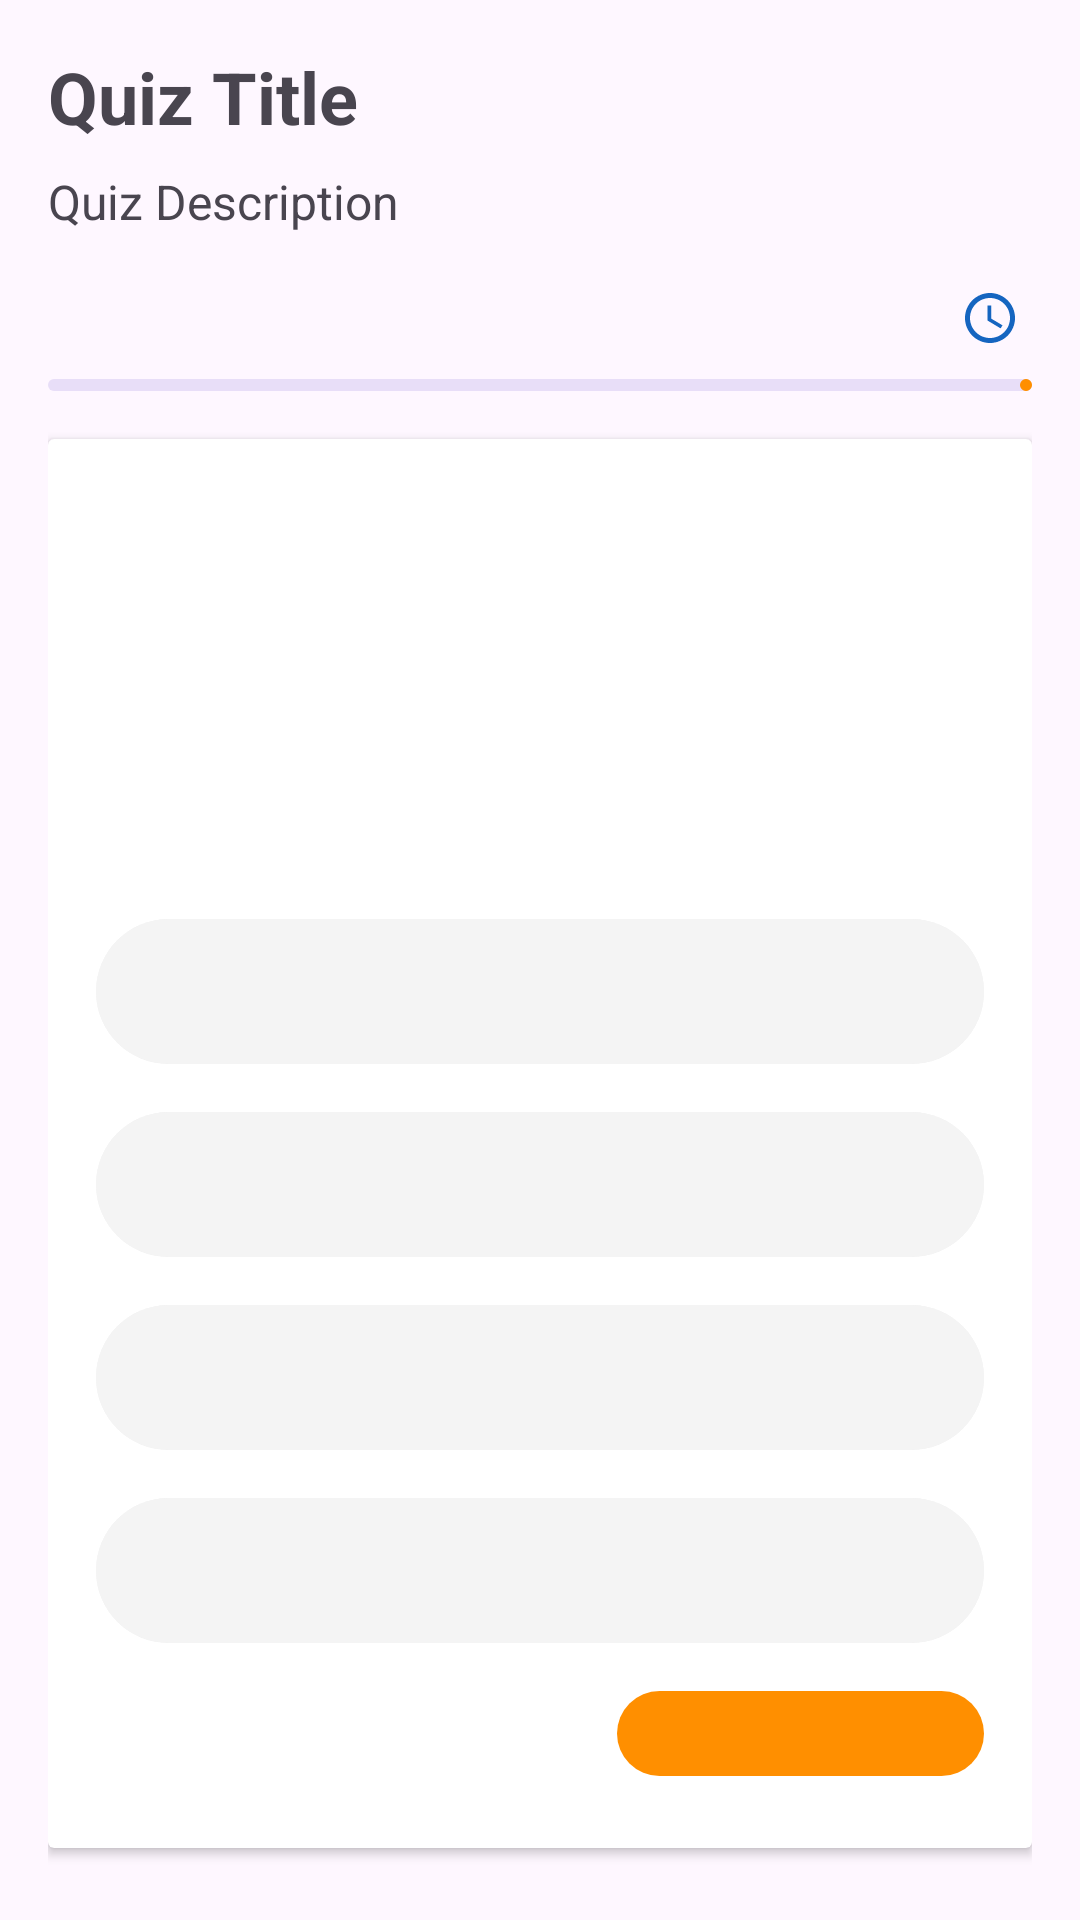

Screen size 1080px x 1920px. Icon name, then its center in pixels as (x=x, y=y):
timer: (x=990, y=318)
